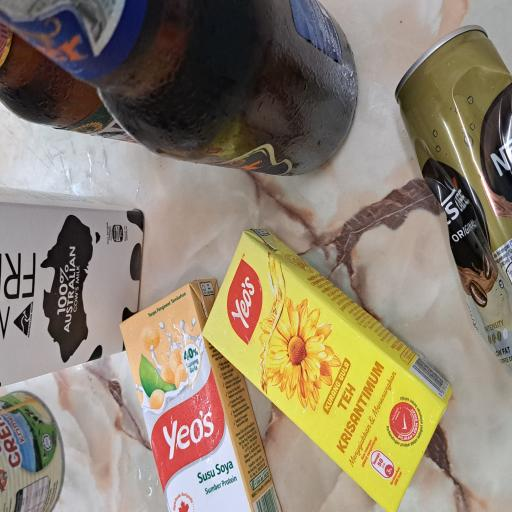can: (0, 0, 90, 86)
drink carton: (0, 269, 214, 512), (0, 159, 178, 373), (94, 0, 241, 191)
glass bottle: (255, 0, 384, 477), (278, 0, 384, 203)
